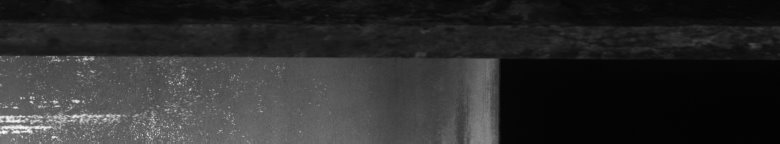kb: (4, 48, 357, 136)
